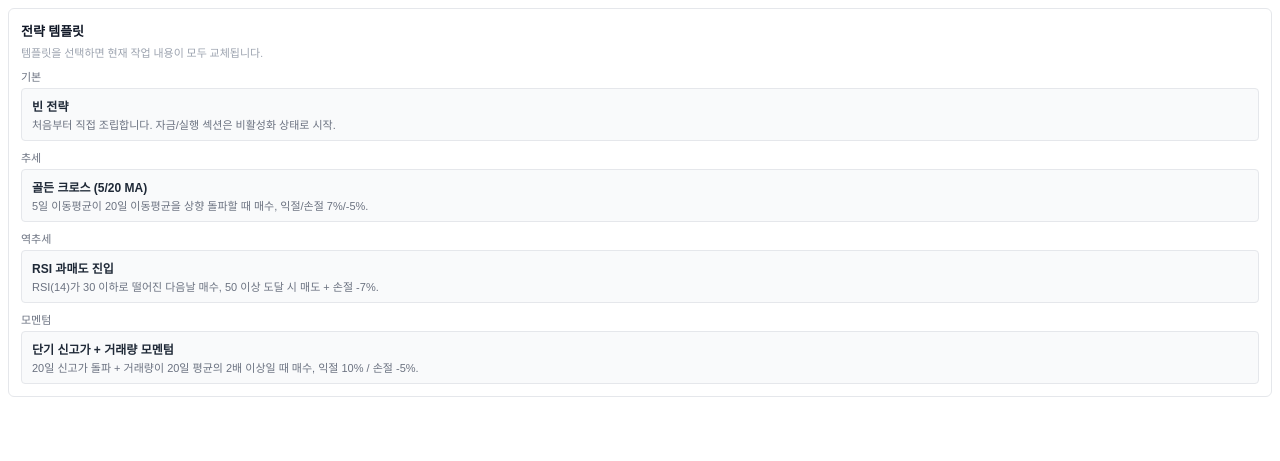
Test: TemplateSelector › 카탈로그에 없는 condition type → 경고 메시지 노출
Click the button with aria-label "골든 크로스 (5/20 MA) 템플릿 적용".
click(90, 188)  # box [21,169,1259,222]
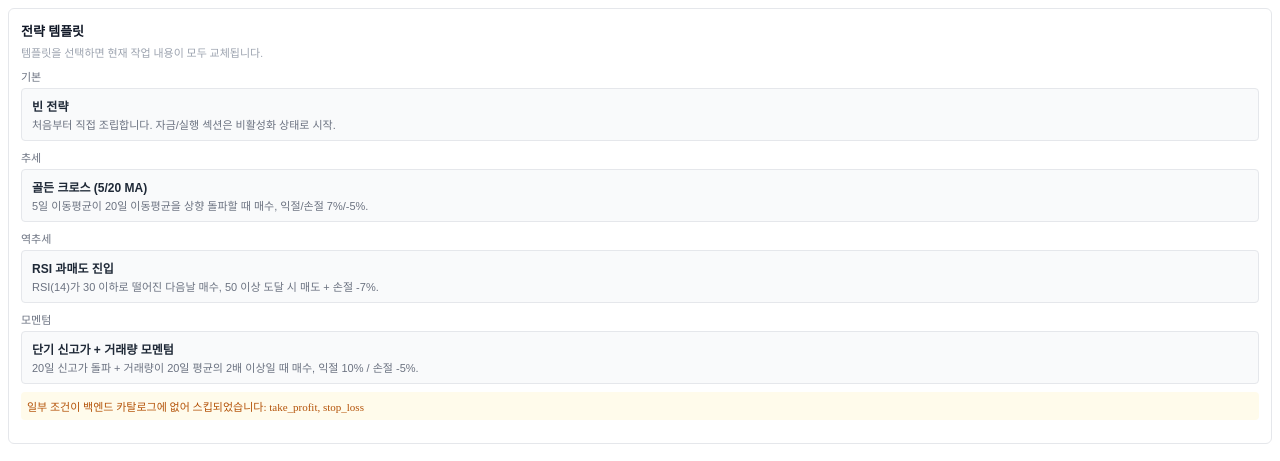
Expected: the message "일부 조건이 백엔드 카탈로그에 없어 스킵되었습니다: take_profit, stop_loss" is shown, [21,392,1259,420]
Expected: the message reads "일부 조건이 백엔드 카탈로그에 없어 스킵되었습니다: take_profit, stop_loss", [269,401,364,413]
